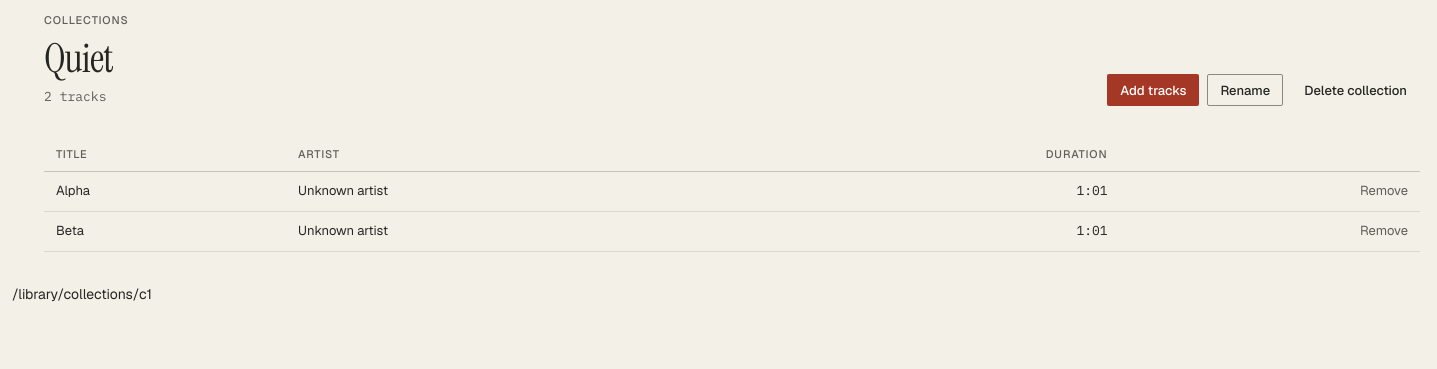
Scenario: Collections › removes a member without deleting the track and says so
Click the button with aria-label "Remove Alpha from Quiet" at (1384, 191), box x1=1360 y1=175 x2=1408 y2=207
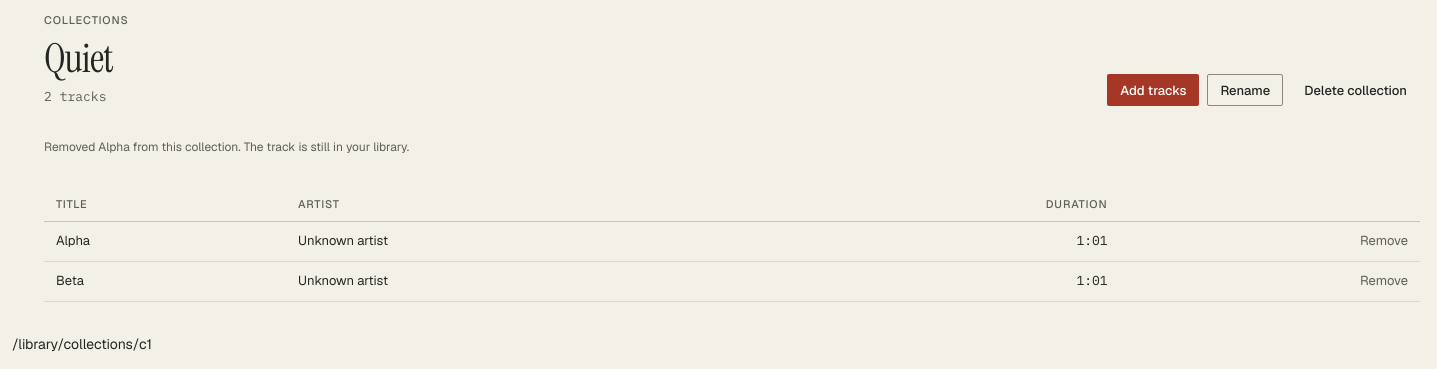
Check: the text "Removed Alpha from this collection. The track is still in your library." is shown, box x1=44 y1=139 x2=409 y2=155
